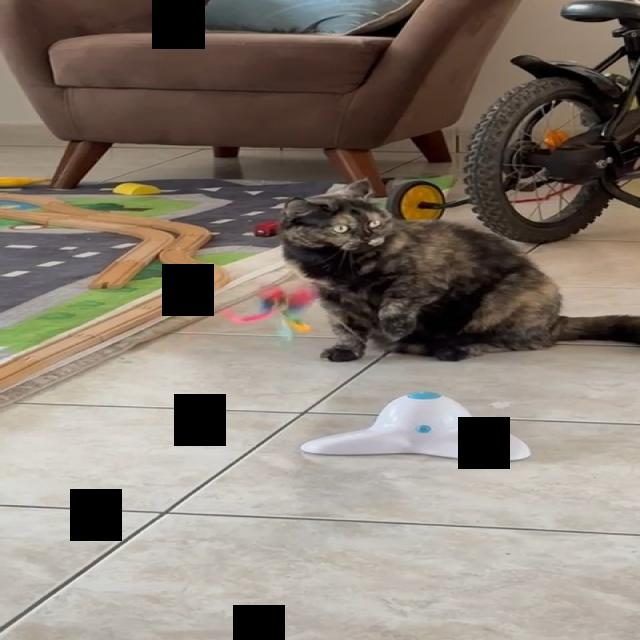authorized: (274, 177, 638, 362)
